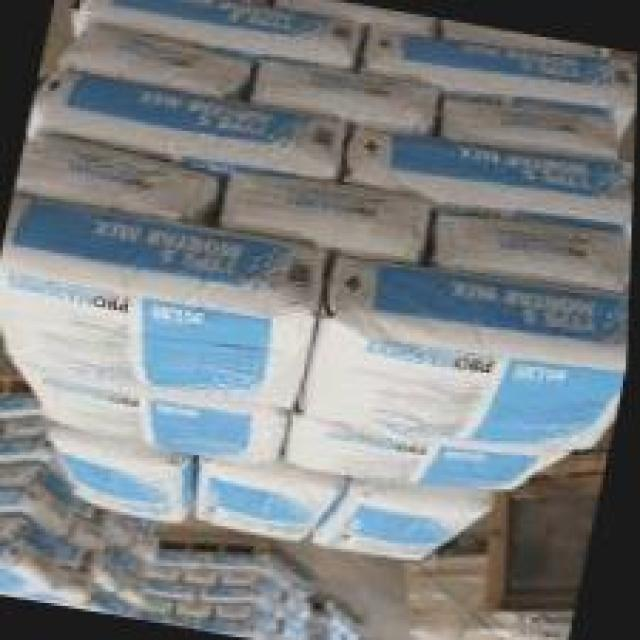gunny_bag: (0, 200, 313, 414), (307, 261, 631, 453), (31, 61, 342, 177), (15, 353, 282, 459), (350, 120, 635, 213), (368, 19, 633, 109), (222, 164, 433, 262), (13, 133, 214, 224), (78, 0, 361, 60), (434, 201, 624, 287), (248, 57, 441, 133), (315, 488, 480, 559), (57, 433, 185, 522), (199, 462, 334, 546), (0, 481, 78, 530), (0, 511, 78, 555), (0, 535, 58, 585), (0, 433, 43, 459), (212, 550, 265, 570), (148, 576, 197, 597), (202, 582, 256, 601), (0, 390, 40, 415), (103, 511, 135, 541), (61, 565, 95, 593), (158, 546, 203, 566), (0, 459, 36, 484), (121, 573, 149, 602), (97, 554, 120, 588), (178, 598, 210, 615)
